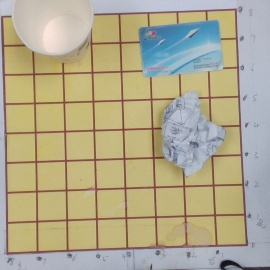card: (138, 20, 224, 75)
cup: (12, 1, 115, 63)
